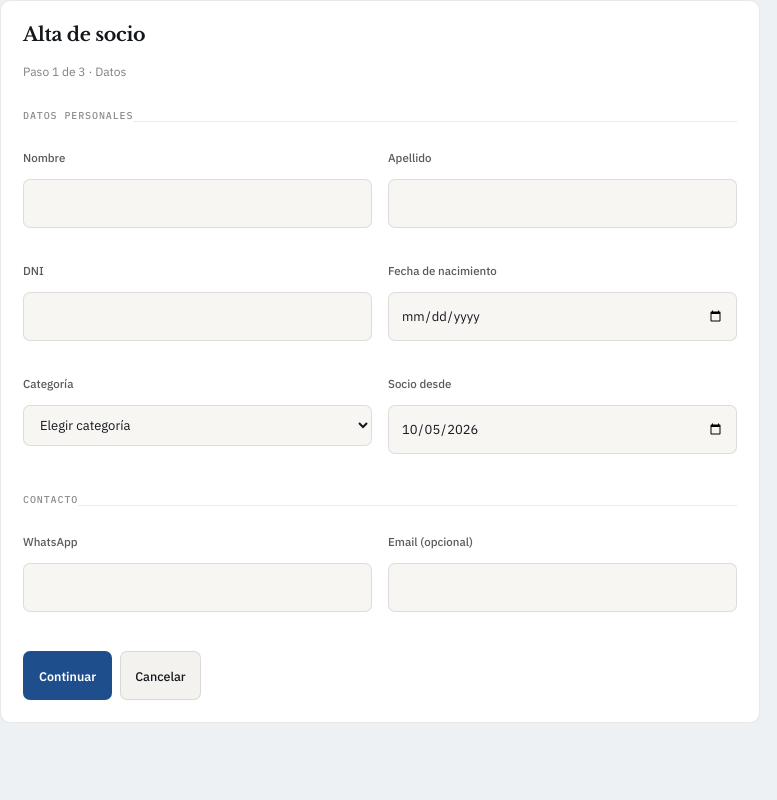
Test: EnrollmentScreen: steps › validates the data before moving on
The image size is (777, 800).
Click the button "Continuar": (68,676) [23,651,112,700]
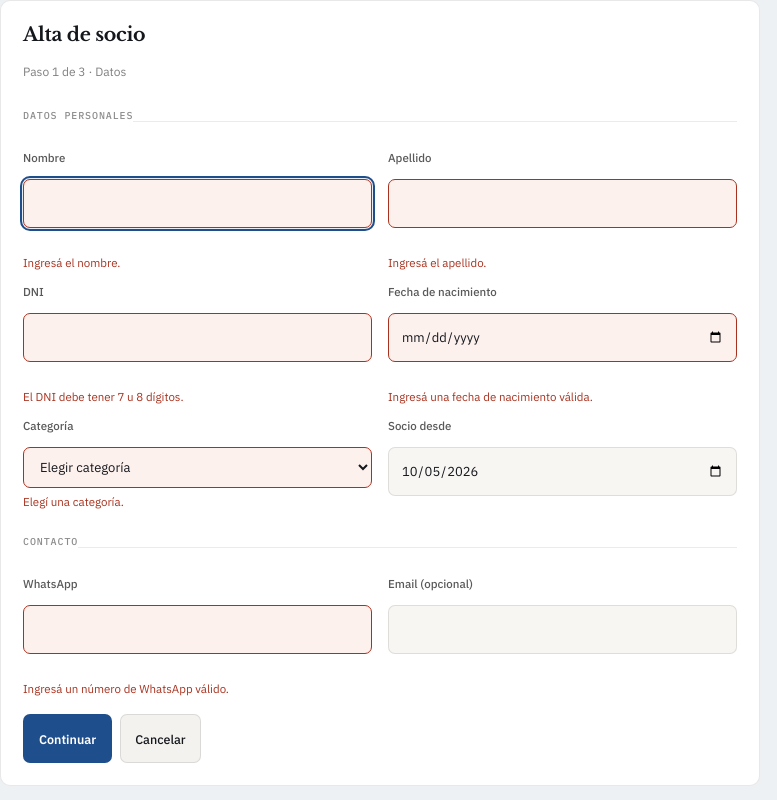
Expected: the text "Paso 1 de 3 · Datos" is shown, [23,64,126,79]
Expected: the text "Ingresá el nombre." is shown, [23,255,120,270]
